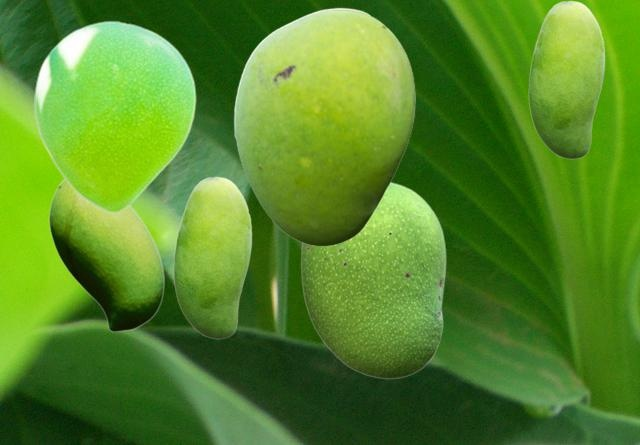green_mango: (233, 7, 414, 245), (34, 20, 195, 213), (300, 182, 445, 378), (48, 179, 163, 331), (173, 176, 251, 338), (528, 0, 604, 158)
